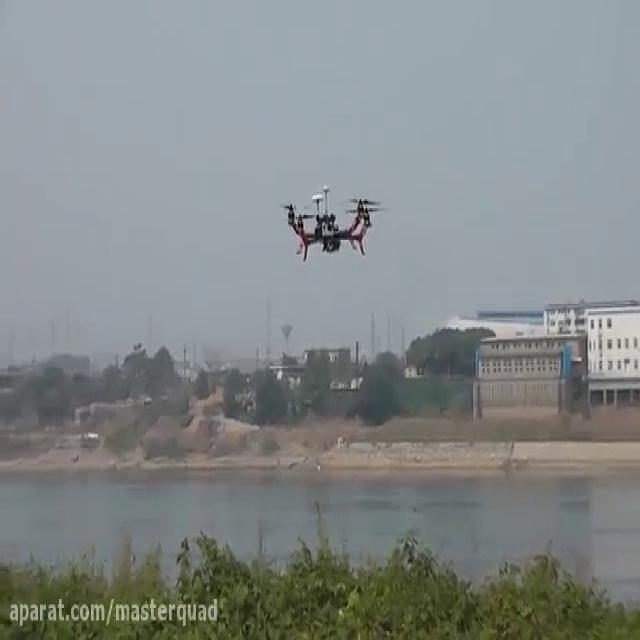drone: (275, 178, 392, 266)
